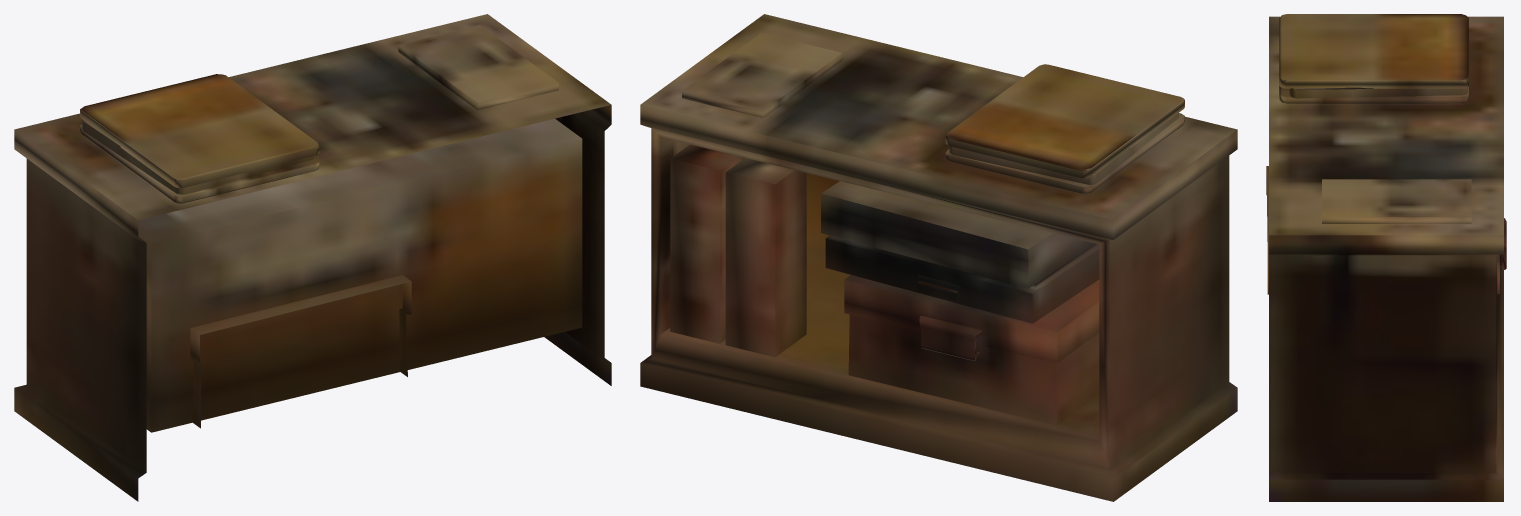
File: OparetionRoom_AI_Prop.033.fbx
3 renders of one model, left to right at view 1: azimuth 30°, elevation 25°; view 2: azimuth 150°, elevation 25°; view 3: azimuth 270°, elevation 25°, orthographic. The views are drawn at different scales.
Visible parts, largest first — view 1: OparetionRoom_AI_Prop.033; view 2: OparetionRoom_AI_Prop.033; view 3: OparetionRoom_AI_Prop.033.
Boxes of the visible parts, x1=… form: OparetionRoom_AI_Prop.033: x1=14, y1=14, x2=611, y2=501; OparetionRoom_AI_Prop.033: x1=640, y1=14, x2=1237, y2=501; OparetionRoom_AI_Prop.033: x1=1266, y1=14, x2=1506, y2=501.
Size of the model in its own units: 117 by 72.47 by 54.35.
